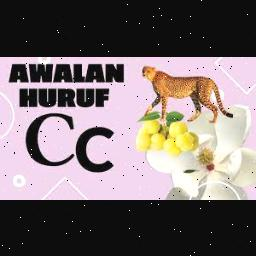a: (52, 60, 74, 84), (8, 60, 28, 84), (85, 60, 105, 82), (72, 60, 88, 80)
c: (24, 110, 78, 168), (74, 115, 120, 179)
h: (20, 84, 40, 112)
n: (104, 61, 128, 83)
r: (57, 84, 77, 108)
u: (36, 86, 58, 108), (75, 84, 95, 108)
w: (28, 58, 54, 84)
